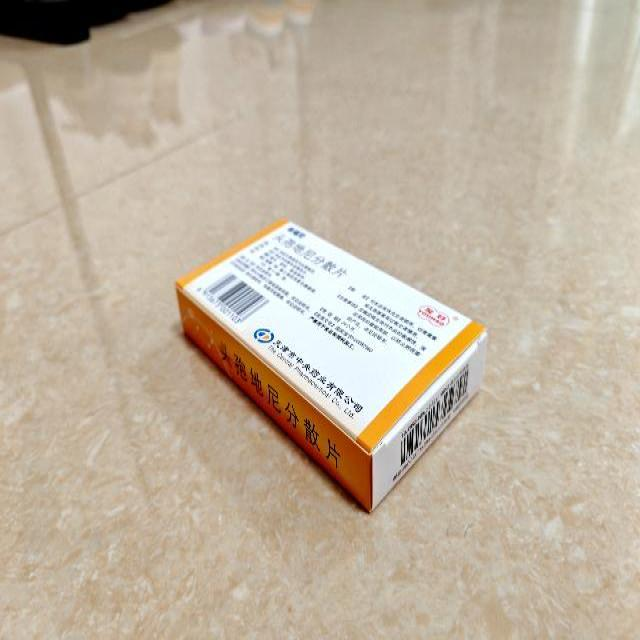box: (172, 218, 488, 513)
